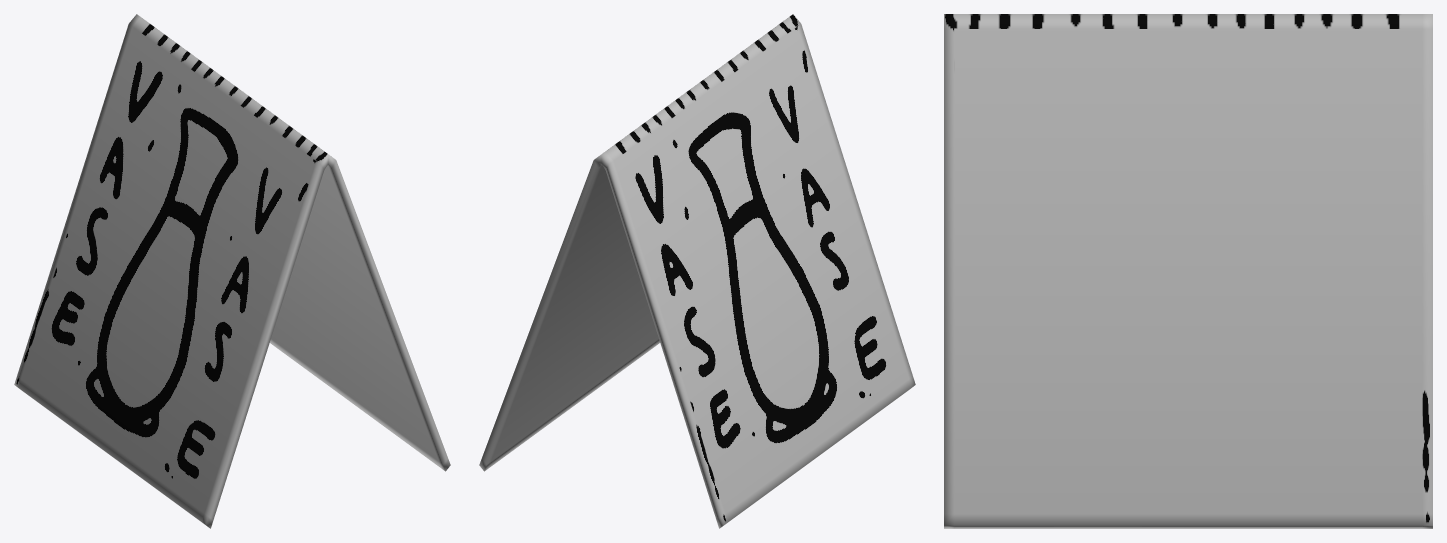
The model's file is ShelfMarkerVase.fbx.
3 renders of one model, left to right at view 1: azimuth 30°, elevation 25°; view 2: azimuth 150°, elevation 25°; view 3: azimuth 270°, elevation 25°, orthographic. The views are drawn at different scales.
Visible parts, largest first — view 1: MarkerVase; view 2: MarkerVase; view 3: MarkerVase.
Part boxes in pixels (<box>): MarkerVase: <box>14,14,450,528</box>; MarkerVase: <box>479,14,915,528</box>; MarkerVase: <box>944,14,1432,528</box>.
Size of the model in its own units: 25.88 by 34.93 by 35.03.
